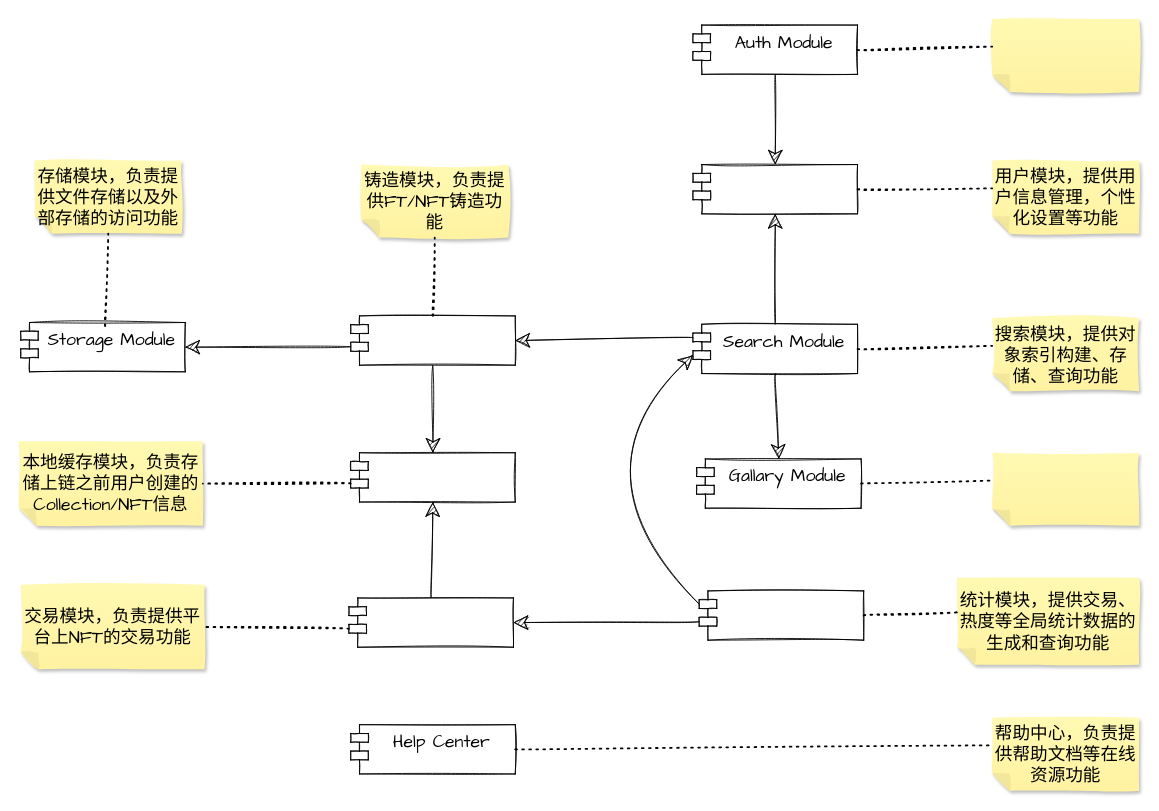
Some shapes in this 1159 by 811 pixel diagram are drawn without their labels. Each missing label, with the centre of its shape:
"Exchange Module" belongs at pixel 430 622.
"Local DB" belongs at pixel 432 477.
"Mint Module" belongs at pixel 432 340.
"Statistic Module" belongs at pixel 781 615.
"User Module" belongs at pixel 775 189.
"画廊模块，负责提供类目/系列/NFT的查询及呈现功能" belongs at pixel 1066 490.
"认证模块，提供登陆、会话管理等安全功能" belongs at pixel 1066 56.
